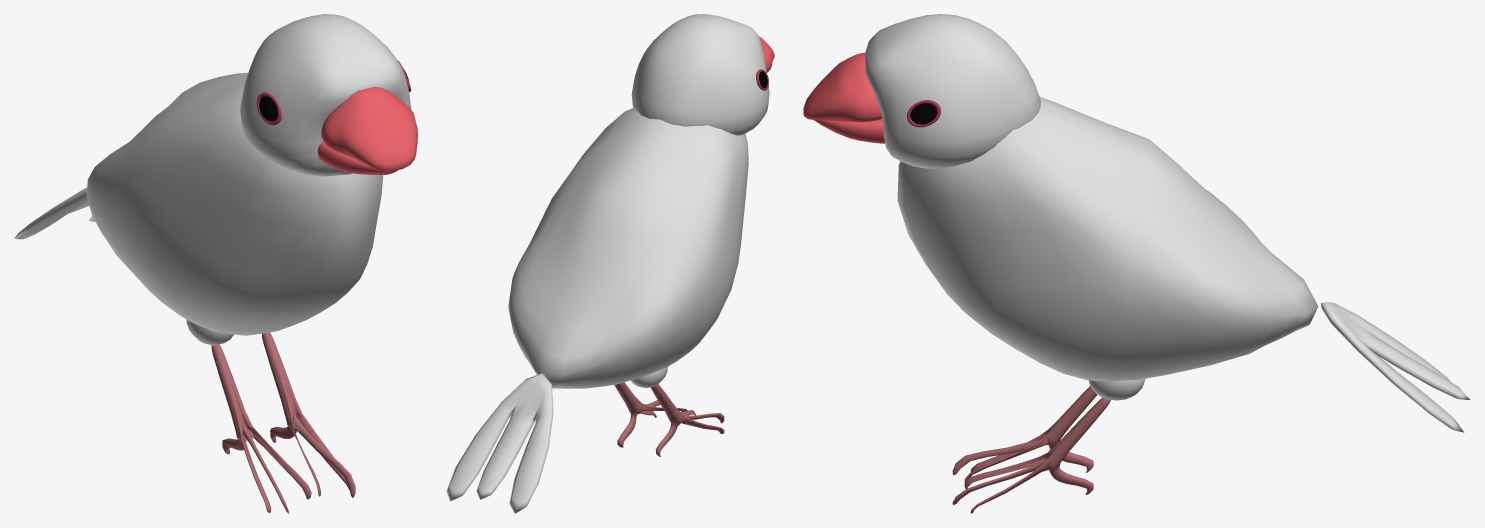
The model's file is ummie_buncho1_2.fbx.
The picture shows the model from 3 angles, left to right: view 1: azimuth 30°, elevation 25°; view 2: azimuth 150°, elevation 25°; view 3: azimuth 270°, elevation 25°; orthographic projection. The views are drawn at different scales.
Parts seen in each view (by area): view 1: Roundcube; view 2: Roundcube; view 3: Roundcube.
Part boxes in pixels (x1,y1,x2,y2): Roundcube: (14,14,417,513); Roundcube: (446,14,774,513); Roundcube: (803,14,1469,513).
Bounding box in the file's own units: 164 × 367 × 468.
